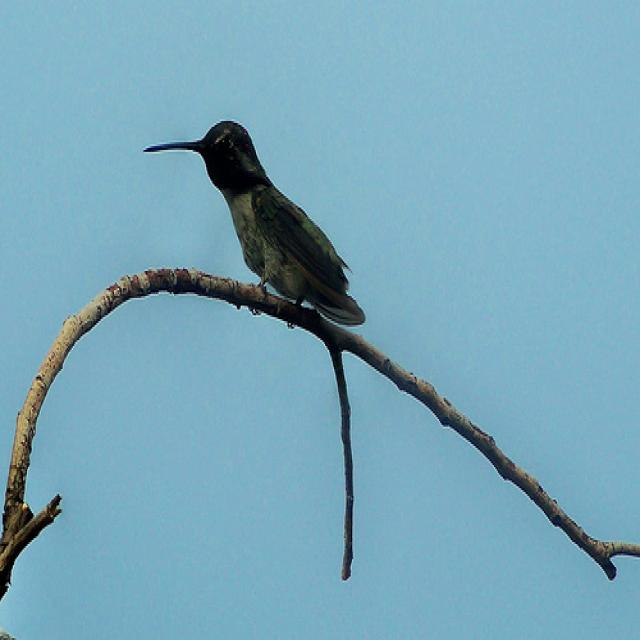bird: (142, 118, 367, 328)
